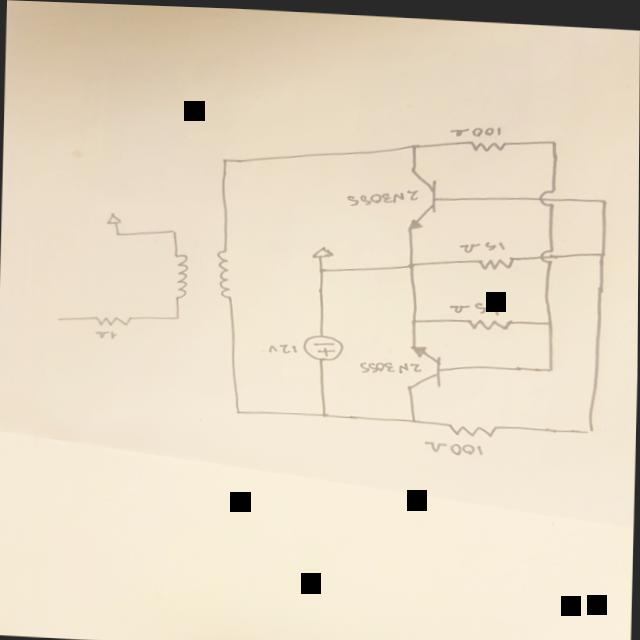crossover: (537, 182, 557, 202), (538, 241, 554, 259)
ground: (310, 242, 335, 256), (105, 210, 122, 224)
junction: (583, 421, 597, 429), (405, 257, 417, 266), (168, 224, 178, 234), (598, 191, 608, 201), (233, 404, 244, 413), (315, 262, 326, 271), (220, 154, 230, 163), (409, 312, 419, 321), (318, 406, 328, 415), (548, 133, 558, 142), (597, 244, 607, 253), (409, 138, 419, 146), (545, 361, 554, 369), (543, 314, 553, 321), (410, 413, 418, 420), (113, 229, 122, 235), (173, 312, 181, 318)
resistor: (447, 416, 499, 434), (473, 248, 515, 268), (467, 311, 511, 329), (467, 133, 505, 148), (93, 311, 133, 325)
source: (300, 327, 346, 360)
terminal: (53, 314, 64, 322)
text: (344, 181, 421, 204), (420, 432, 486, 453), (357, 354, 422, 371), (446, 295, 502, 311), (444, 118, 502, 133), (457, 234, 505, 250), (265, 337, 299, 351), (92, 324, 120, 339)
transformer: (169, 242, 235, 301)
transistor: (404, 158, 438, 231), (403, 336, 444, 391)
